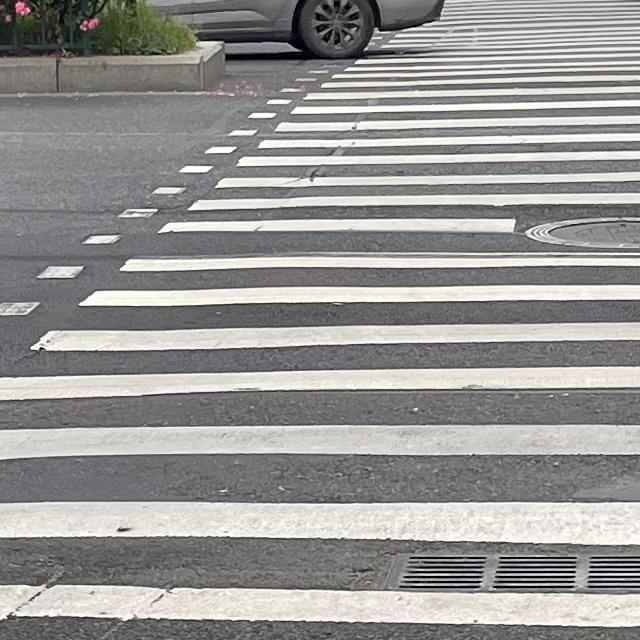curb: (0, 41, 224, 94)
